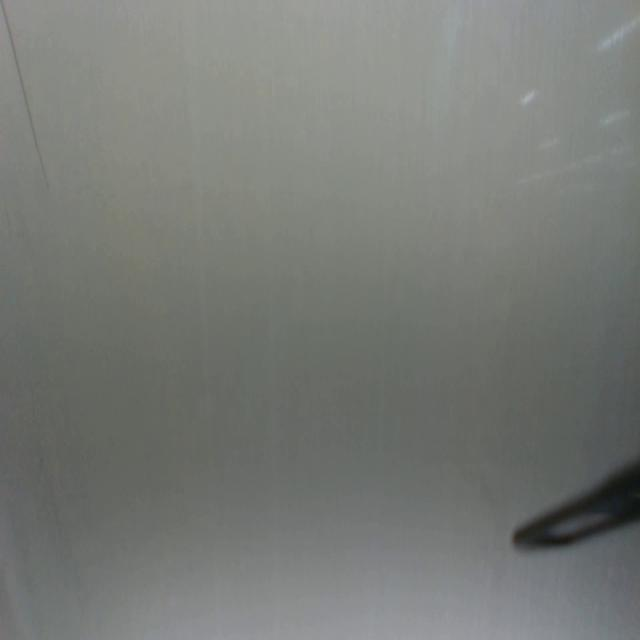crease: (0, 0, 52, 202)
